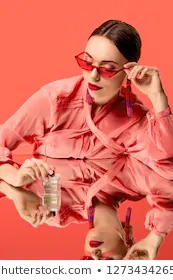C_blouse: (1, 75, 173, 193)
